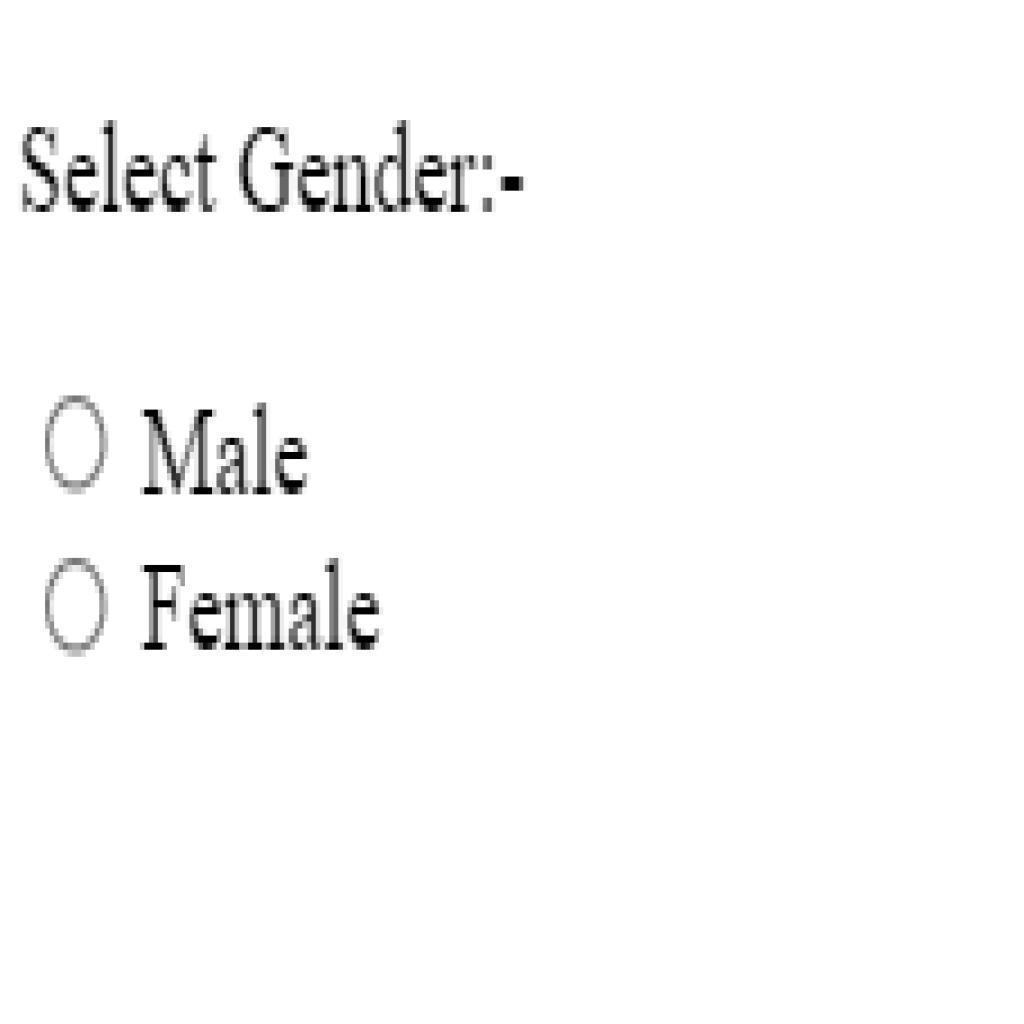label: (140, 556, 390, 664), (133, 396, 324, 508)
radio: (38, 547, 115, 672), (42, 383, 110, 507)
